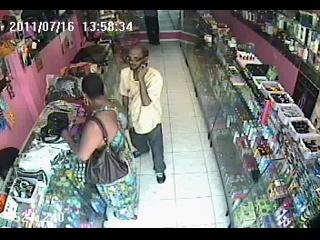Normal: (60, 74, 140, 224), (119, 44, 167, 184)
